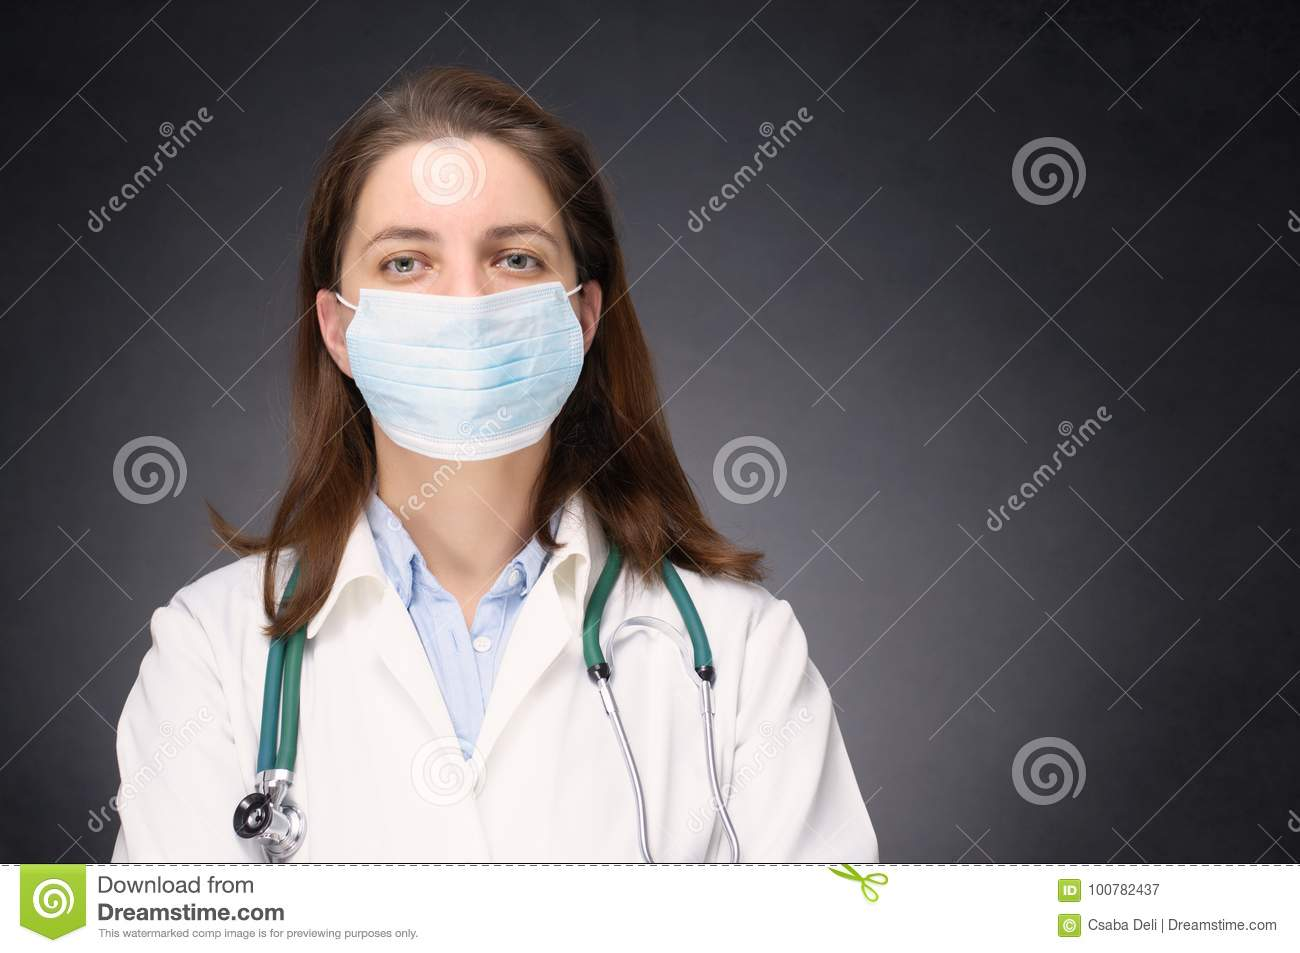mask: (353, 278, 591, 478)
